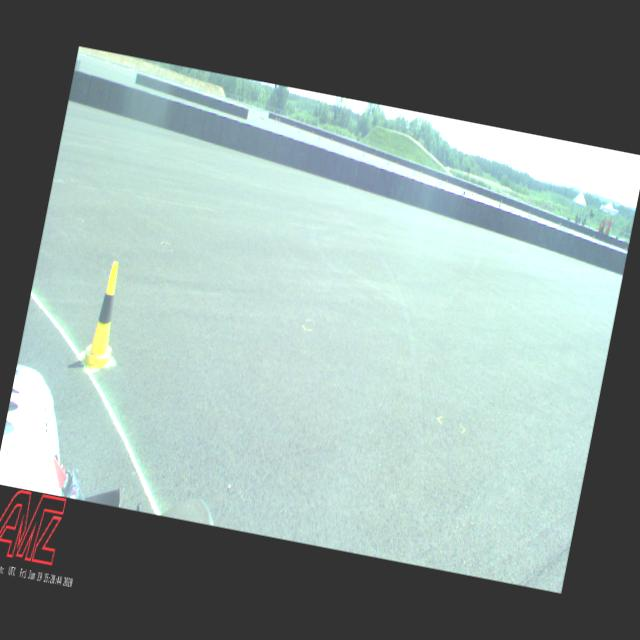yellow_cone: (80, 259, 132, 373)
